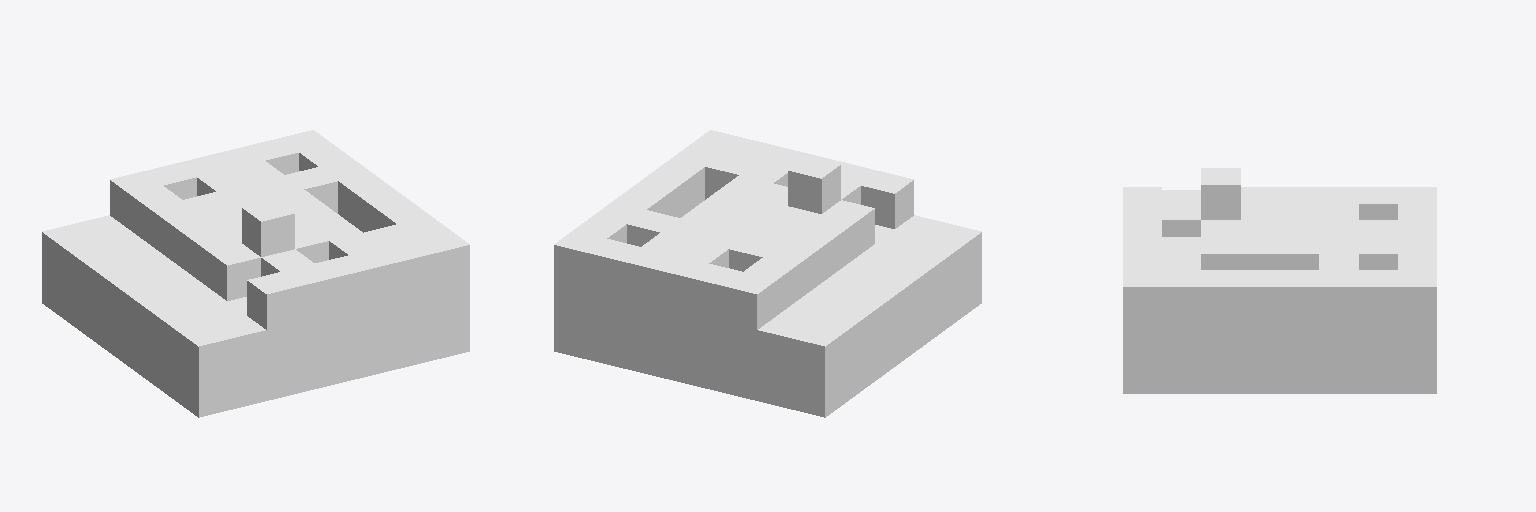
File: Lava6.obj
The picture shows the model from 3 angles: view 1: azimuth 30°, elevation 25°; view 2: azimuth 150°, elevation 25°; view 3: azimuth 270°, elevation 25°; orthographic projection.
Visible parts, largest first — view 1: object 1; view 2: object 1; view 3: object 1.
Part boxes in pixels (x1,y1,x2,y2): object 1: (42, 130, 469, 417); object 1: (554, 130, 981, 417); object 1: (1123, 168, 1436, 393).
Size of the model in its own units: 0.8 by 0.4 by 0.8.